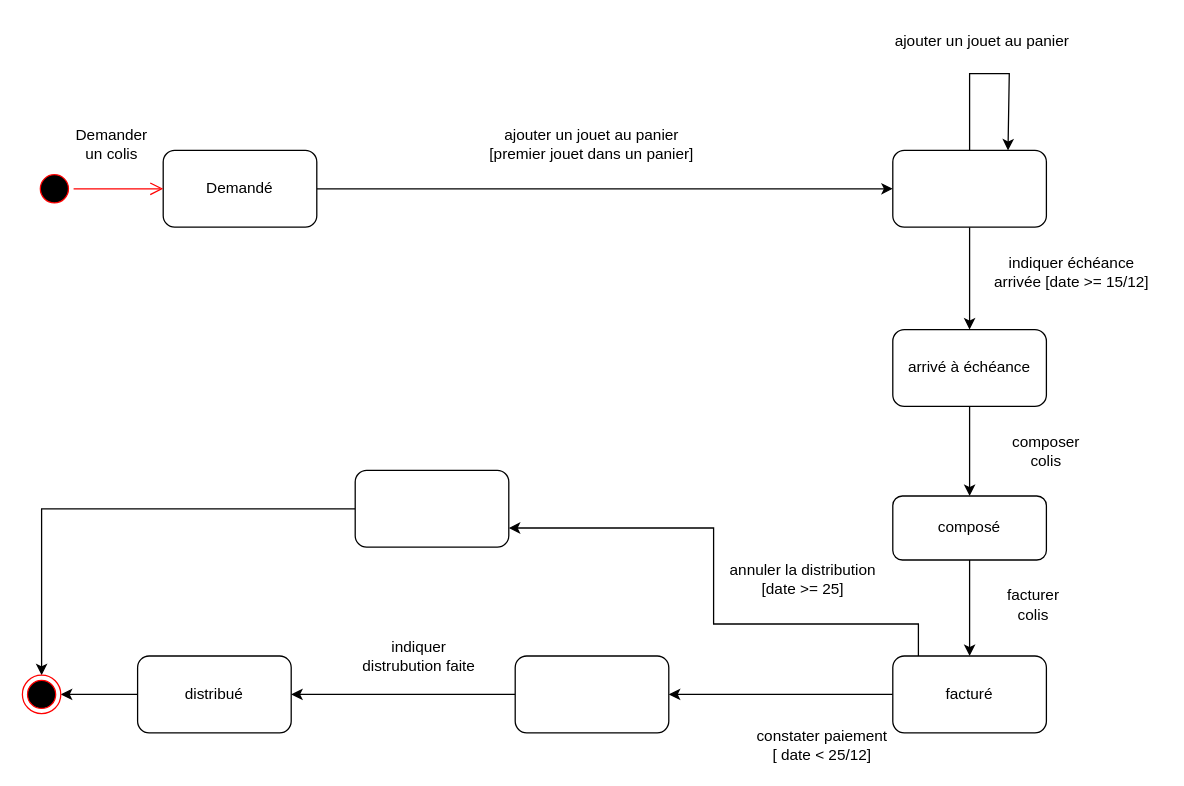
Image size: 1184x786. Some labels were removed from this diagram. Each missing label, with the centre of its shape:
"annulé" goes at (x=431, y=508).
"En préparation" goes at (x=969, y=188).
"payé" goes at (x=591, y=694).
